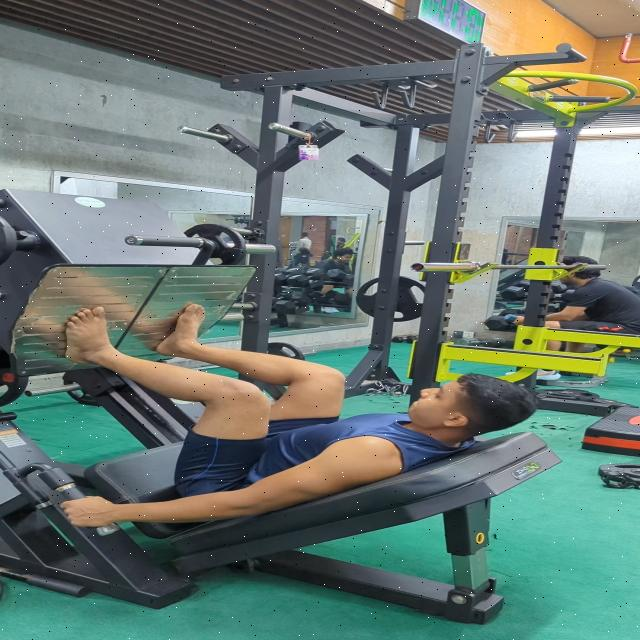Normal_LegPress: (3, 298, 587, 535)
